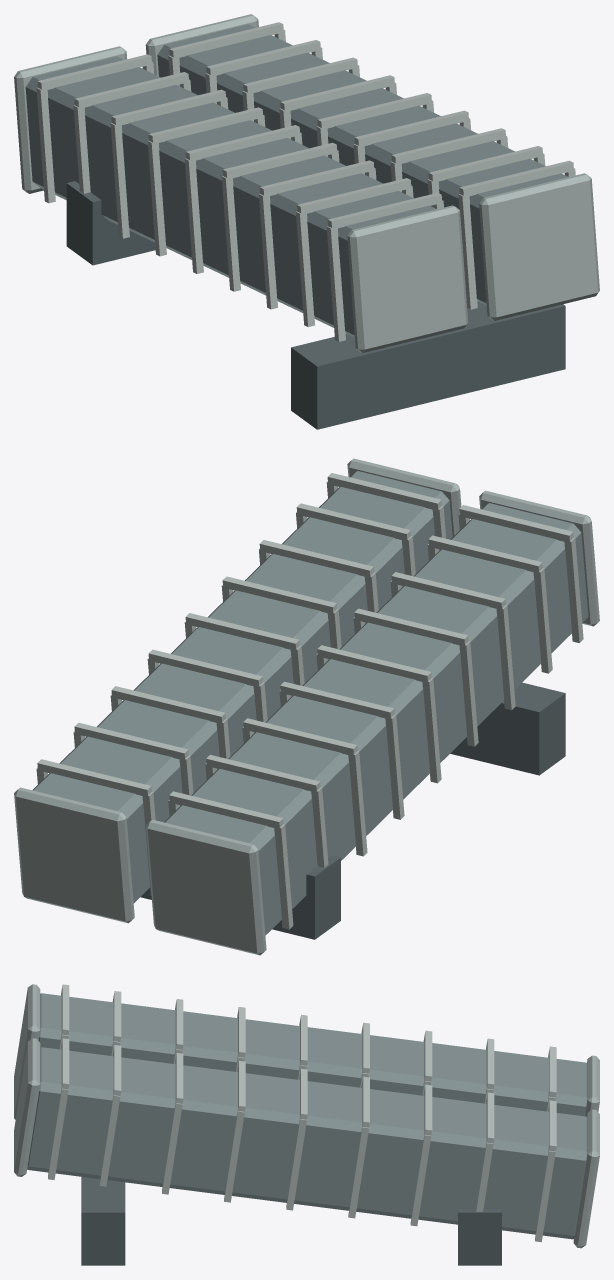
The model's file is mount_gepard_exocet.glb.
The picture shows the model from 3 angles, top to bottom: view 1: azimuth 30°, elevation 25°; view 2: azimuth 150°, elevation 25°; view 3: azimuth 270°, elevation 25°; orthographic projection. The views are drawn at different scales.
Parts seen in each view (by area): view 1: MESH_GEPARD_TEMPLATE_exocet; view 2: MESH_GEPARD_TEMPLATE_exocet; view 3: MESH_GEPARD_TEMPLATE_exocet.
Boxes of the visible parts, bbox=[...] form: MESH_GEPARD_TEMPLATE_exocet: bbox=[14, 14, 599, 429]; MESH_GEPARD_TEMPLATE_exocet: bbox=[14, 458, 599, 955]; MESH_GEPARD_TEMPLATE_exocet: bbox=[14, 984, 599, 1265].
Bounding box in the file's own units: 2.4 × 2.01 × 5.83.
Materials: 1 (1 with a texture image).
